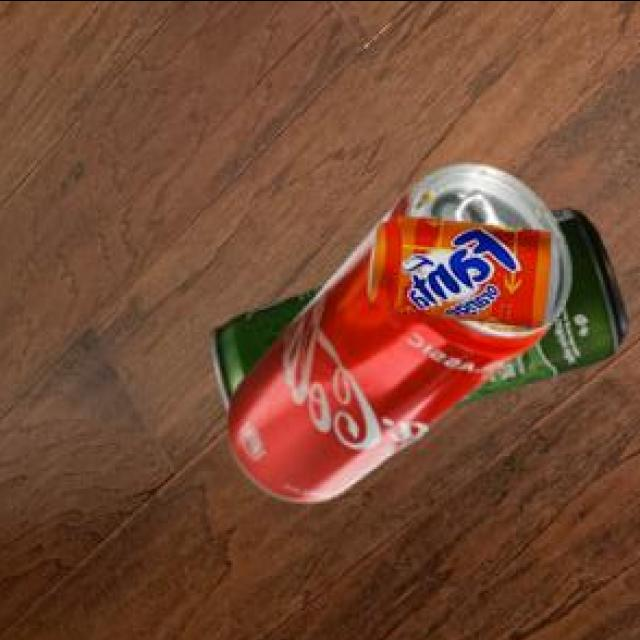logam: (225, 160, 567, 497), (395, 204, 624, 396), (365, 212, 554, 323)
